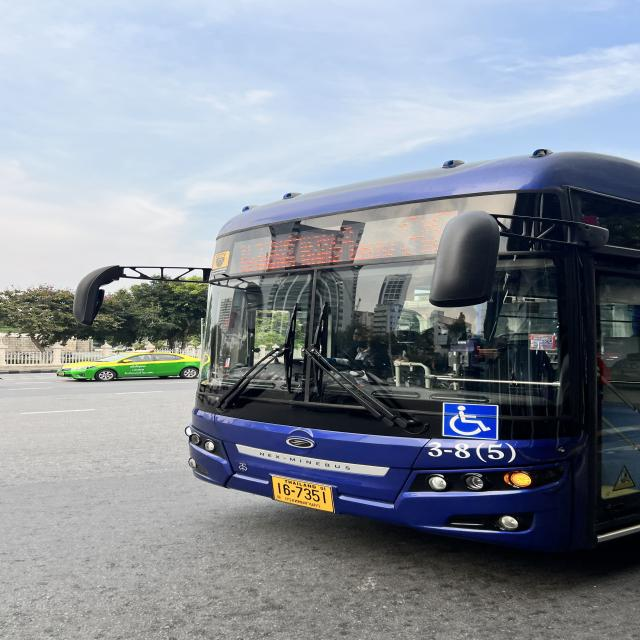Bus Line Number: (398, 207, 468, 257)
Bus Side Number: (421, 439, 523, 466)
Destination Sign: (226, 222, 397, 276)
TSB-Bus: (188, 151, 640, 556)
